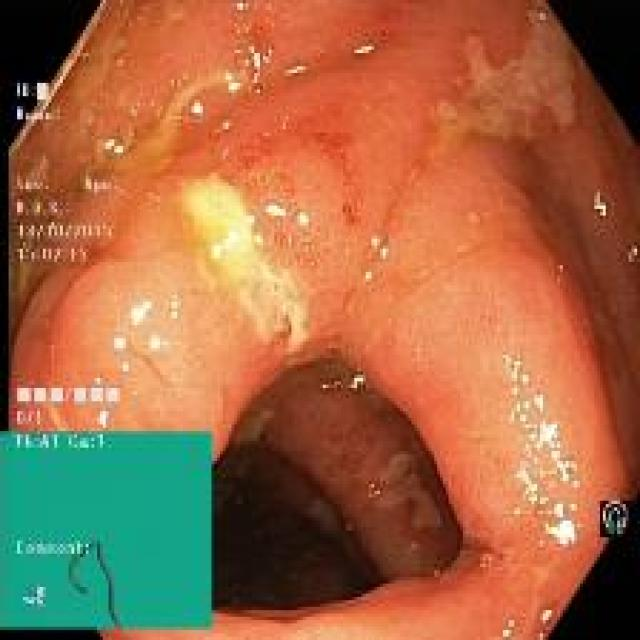ulcerative-colitis-grade-2-3: (11, 3, 640, 638)
